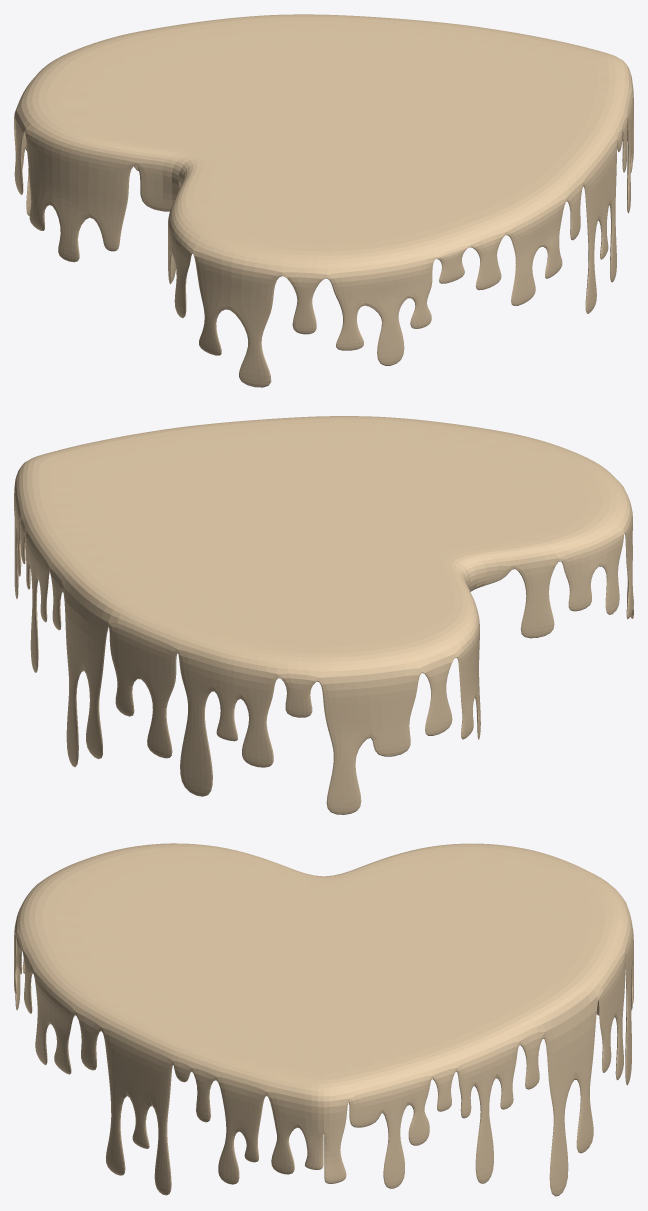
Rendered from GlazeCream2.glb.
The picture shows the model from 3 angles, top to bottom: view 1: azimuth 30°, elevation 25°; view 2: azimuth 150°, elevation 25°; view 3: azimuth 270°, elevation 25°; orthographic projection.
Visible parts, largest first — view 1: Cylinder.009; view 2: Cylinder.009; view 3: Cylinder.009.
Boxes of the visible parts, bbox=[...] form: Cylinder.009: bbox=[14, 14, 633, 387]; Cylinder.009: bbox=[14, 416, 633, 814]; Cylinder.009: bbox=[14, 843, 633, 1196].
Size of the model in its own units: 1.63 by 0.555 by 1.66.
